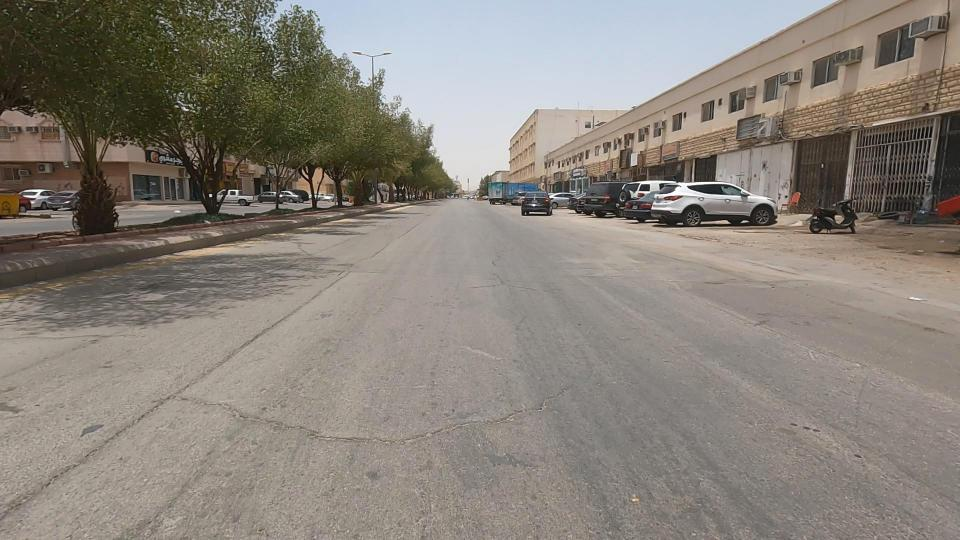BAD_BILLBOARD: (704, 98, 798, 159), (586, 126, 650, 182)
